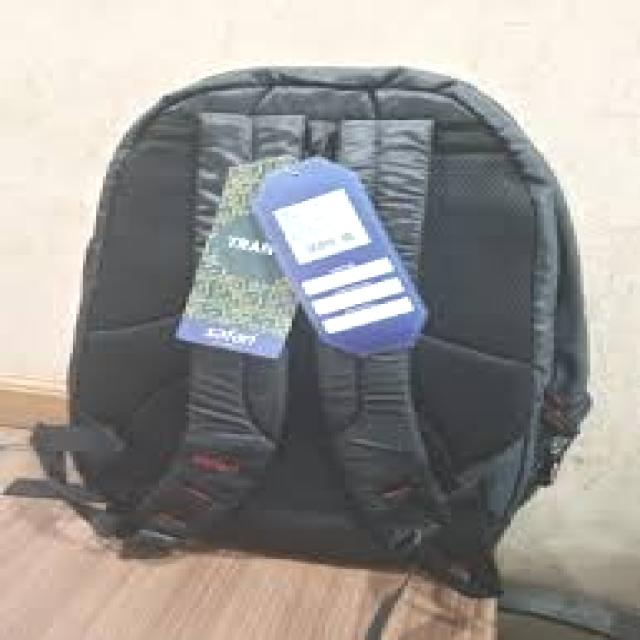backpack: (11, 65, 595, 597)
